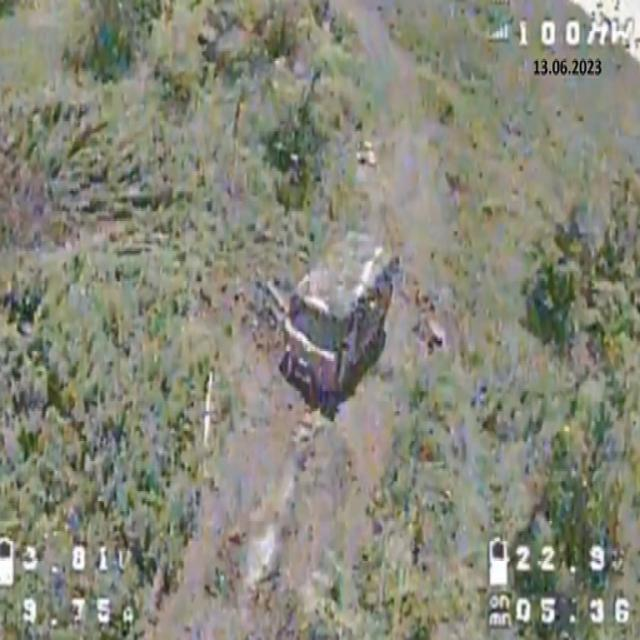CAR: (278, 225, 398, 402)
